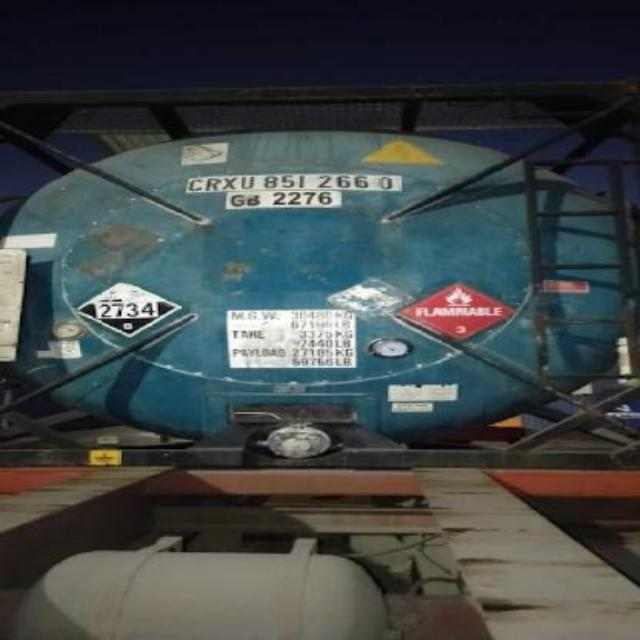0: (378, 174, 396, 190)
1: (294, 174, 310, 190)
2: (318, 174, 334, 190)
5: (277, 174, 293, 190)
6: (354, 172, 372, 192), (334, 172, 350, 192)
8: (260, 173, 280, 191)
C: (190, 178, 203, 194)
R: (207, 177, 220, 193)
U: (236, 172, 260, 192)
X: (224, 176, 236, 190)
